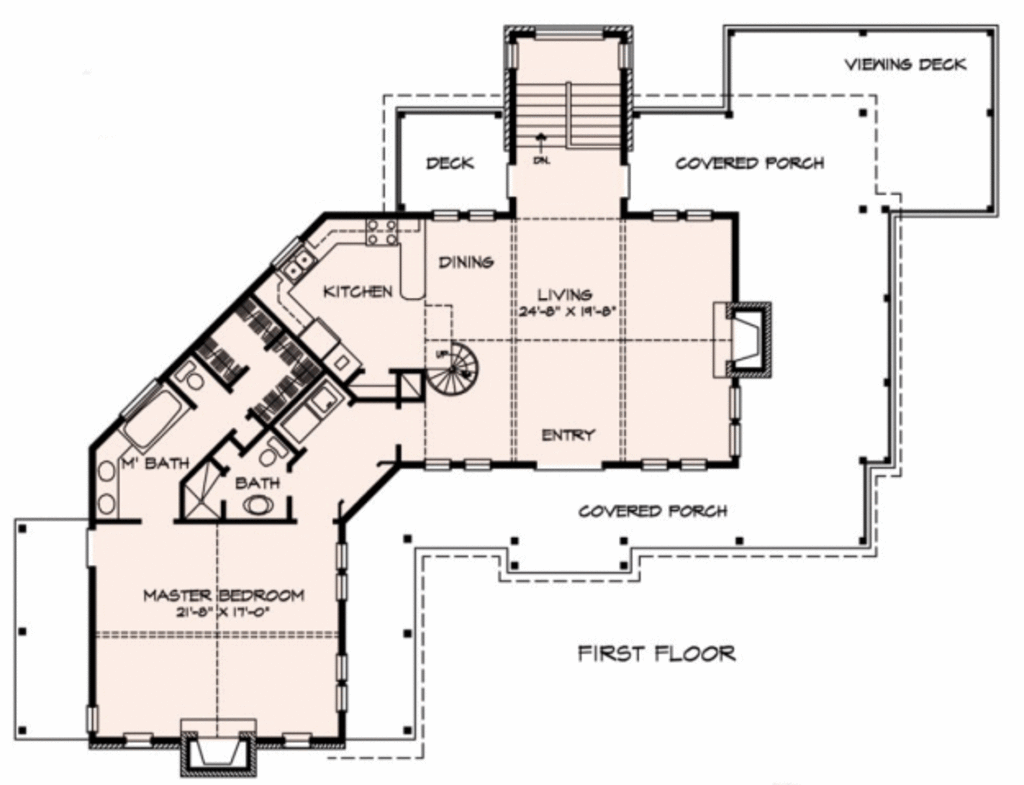large_sink: (166, 358, 218, 402), (255, 432, 291, 472)
small_sink: (93, 447, 130, 523), (229, 494, 285, 521)
stairs: (517, 35, 629, 172), (405, 336, 499, 415)
tub: (118, 382, 198, 452)
twin_sink: (272, 227, 345, 284)
window: (724, 379, 749, 462), (329, 651, 361, 715), (430, 202, 505, 229), (642, 448, 710, 475), (424, 452, 507, 473), (324, 539, 349, 605), (649, 205, 723, 227), (80, 702, 107, 738)
